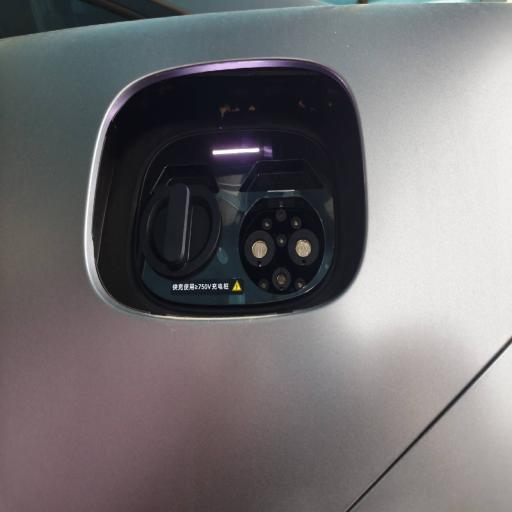DC_hole: (287, 228, 321, 266), (244, 231, 276, 268)
PE: (271, 268, 292, 292)
charging_port: (237, 192, 328, 296)
